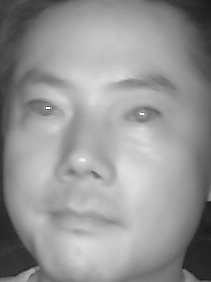eye: (24, 95, 64, 123), (122, 102, 162, 129)
mouth: (45, 195, 125, 242)
